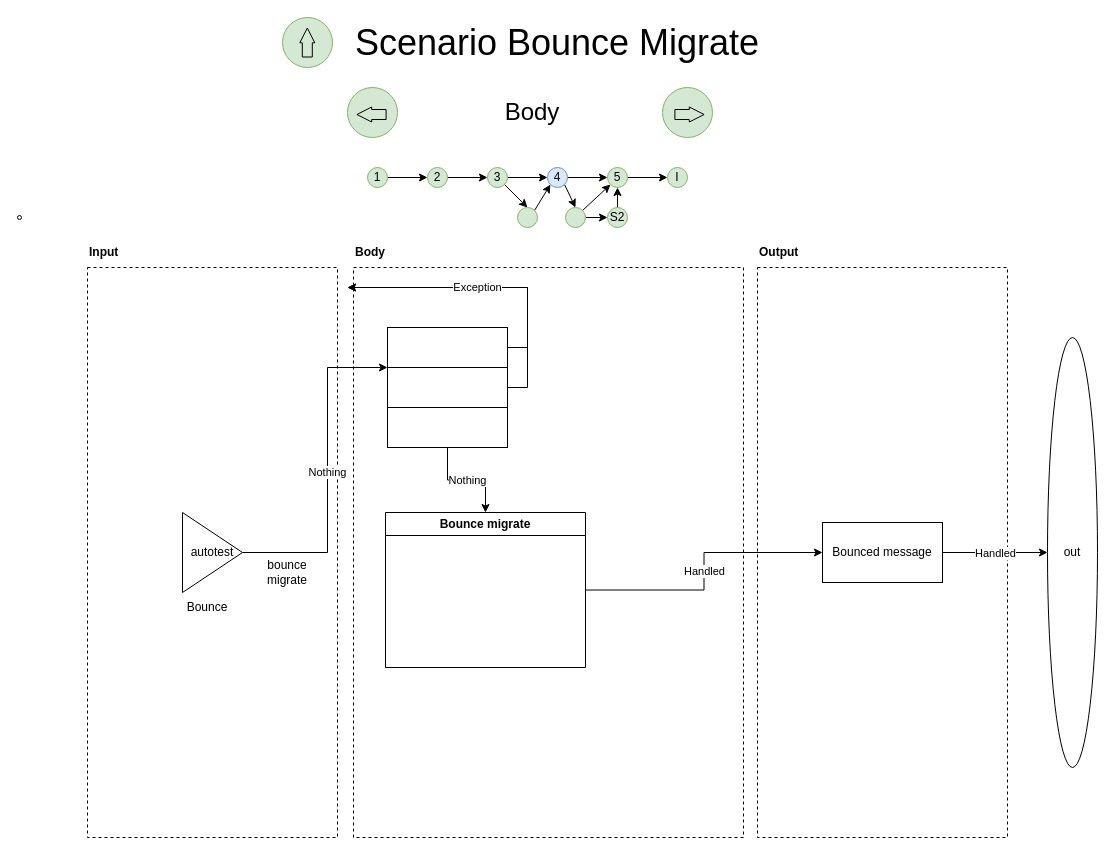
The diagram is 1115 pixels wide and 855 high, and some of its shapes have lost their labels. Here are the shapes that lost their labels. From the top down, the box of each, then its label:
(516, 206, 538, 228): S1
(564, 206, 586, 228): T1
(386, 326, 508, 368): Incorrect sender
(386, 366, 508, 408): Insufficient value
(386, 406, 508, 448): Otherwise
